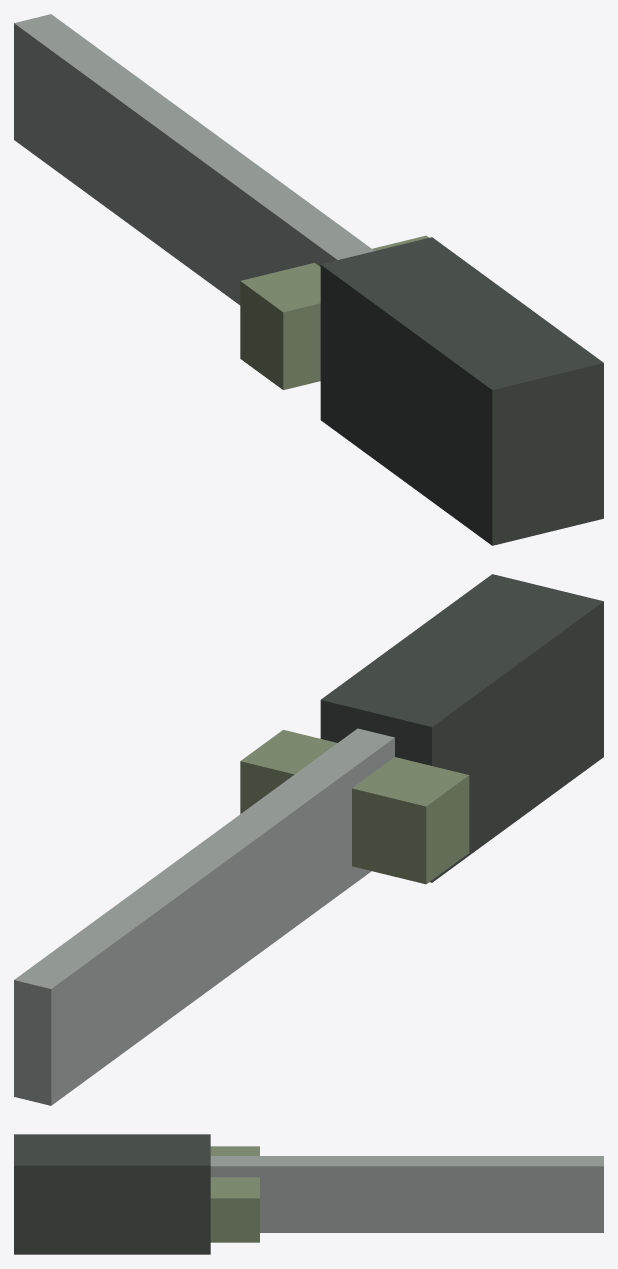
The model's file is knife.gltf.
3 renders of one model, top to bottom at view 1: azimuth 30°, elevation 25°; view 2: azimuth 150°, elevation 25°; view 3: azimuth 270°, elevation 25°, orthographic. The views are drawn at different scales.
Size of the model in its own units: 5 by 4 by 24.
